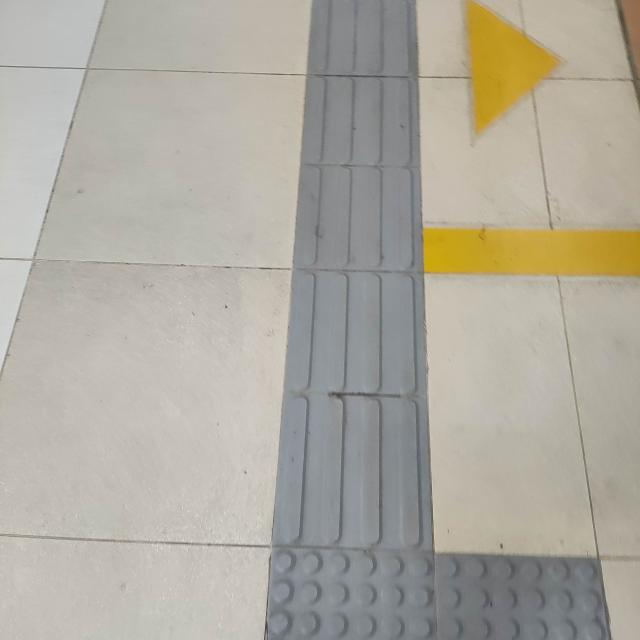lurus: (269, 15, 450, 555)
